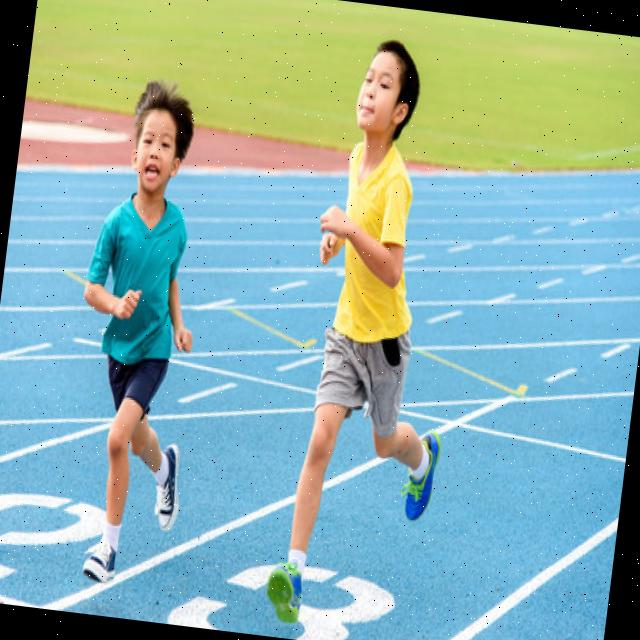Person: (263, 32, 488, 640), (48, 76, 228, 588)
